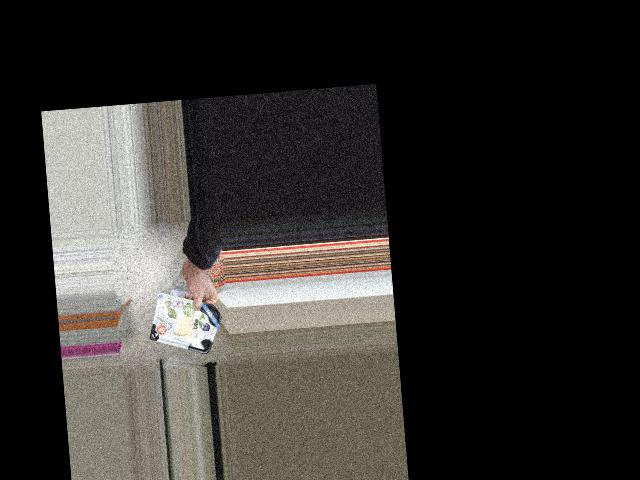cheese: (152, 299, 218, 351)
